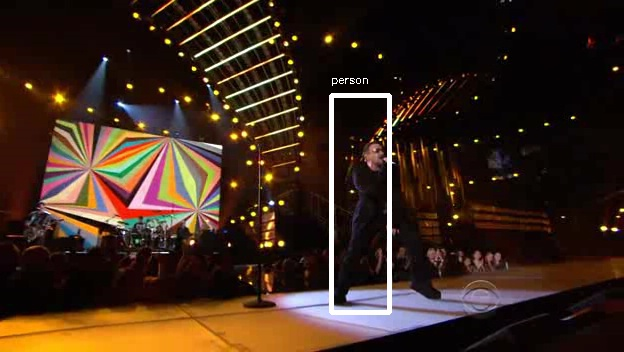person: (349, 142, 418, 246), (346, 142, 415, 246), (352, 142, 421, 246), (349, 139, 418, 243), (349, 145, 418, 249)
target_negative: (104, 106, 584, 224), (175, 16, 566, 101), (76, 227, 153, 297), (487, 223, 533, 295), (158, 282, 187, 285), (591, 53, 592, 116)
